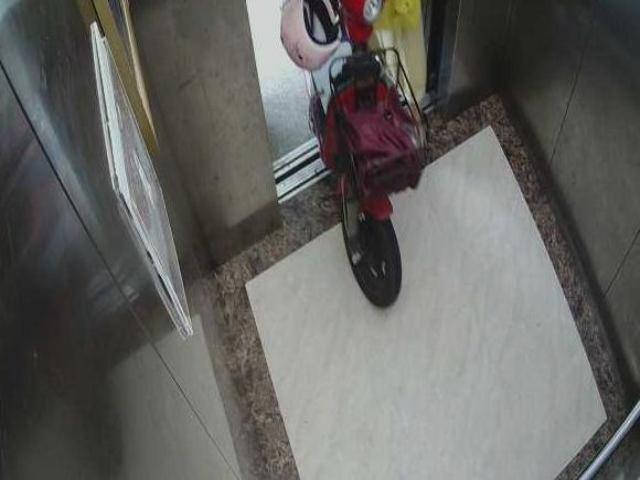emotor: (284, 2, 431, 316)
